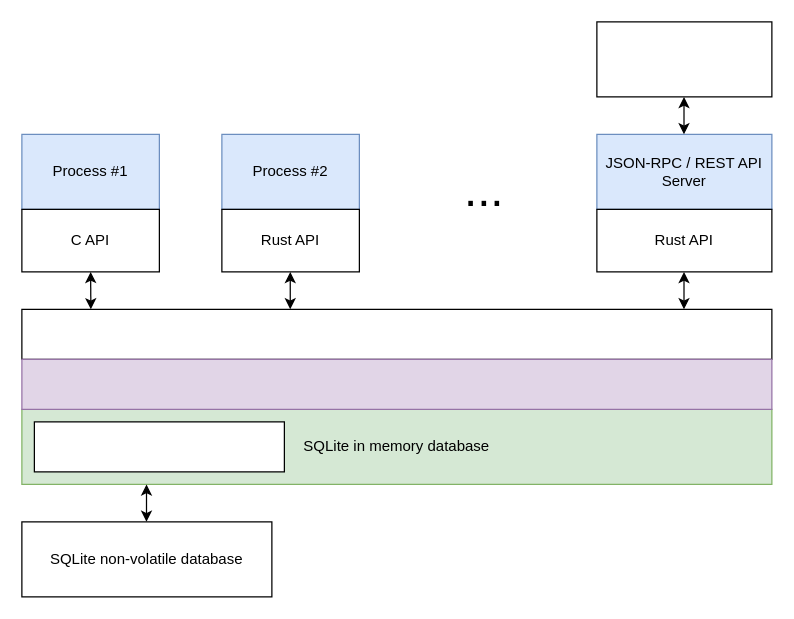
This 794x619 diagram has some shape labels left out. The shapes that lost their labels are listed below. From the top down, each one's centre as x and y in pixels, then its label:
(x=684, y=59): WEB Client
(x=396, y=333): EConfManager Library
(x=396, y=383): UDP Multicast Notifications
(x=158, y=446): Parameters
